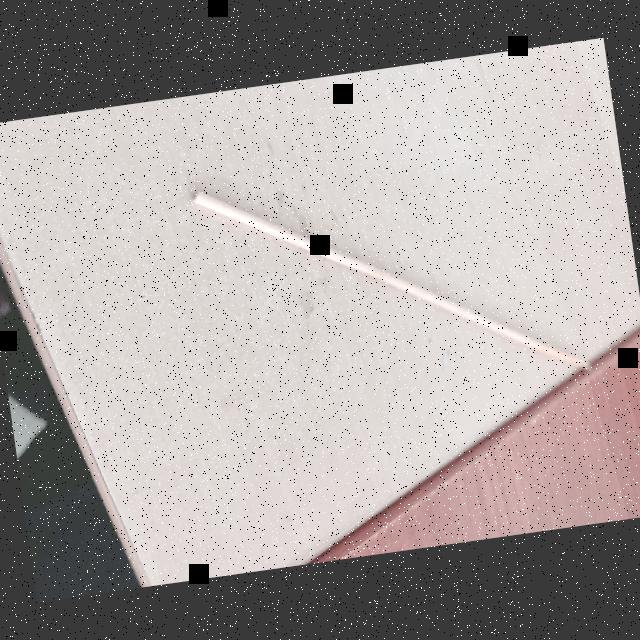stick: (172, 113, 606, 449)
